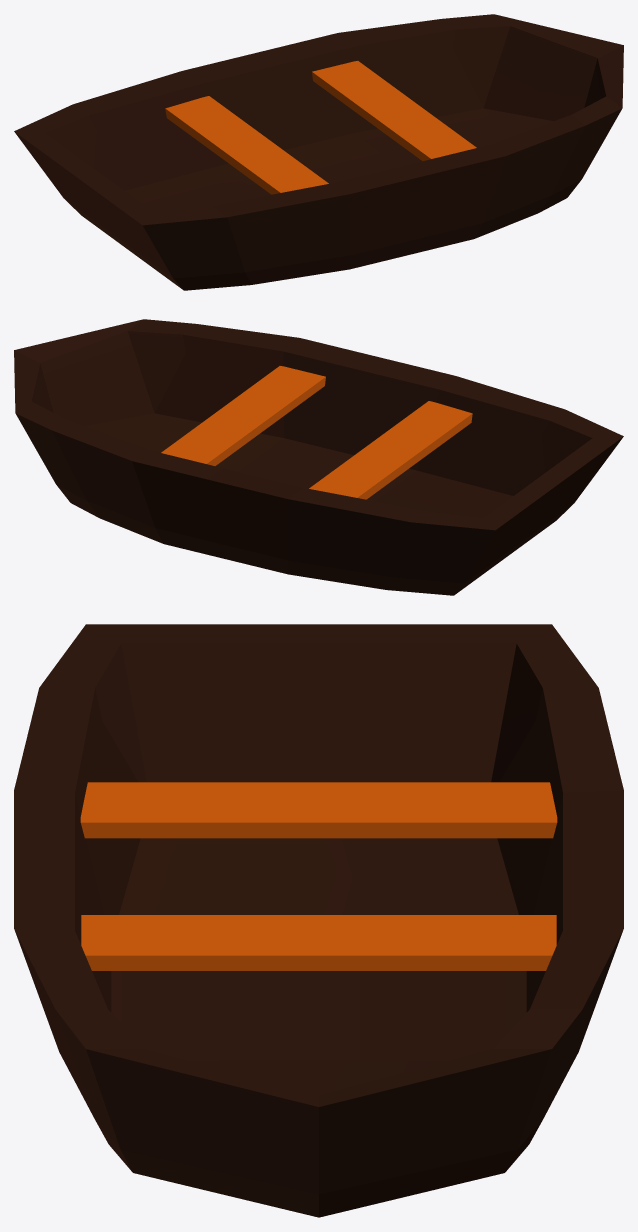
Rendered from boat.fbx.
3 renders of one model, top to bottom at view 1: azimuth 30°, elevation 25°; view 2: azimuth 150°, elevation 25°; view 3: azimuth 270°, elevation 25°, orthographic. The views are drawn at different scales.
Parts seen in each view (by area): view 1: boat; view 2: boat; view 3: boat.
Boxes of the visible parts, bbox=[...] form: boat: bbox=[14, 14, 623, 290]; boat: bbox=[14, 319, 623, 595]; boat: bbox=[14, 624, 623, 1217].
Bounding box in the file's own units: 807 × 136 × 431.
